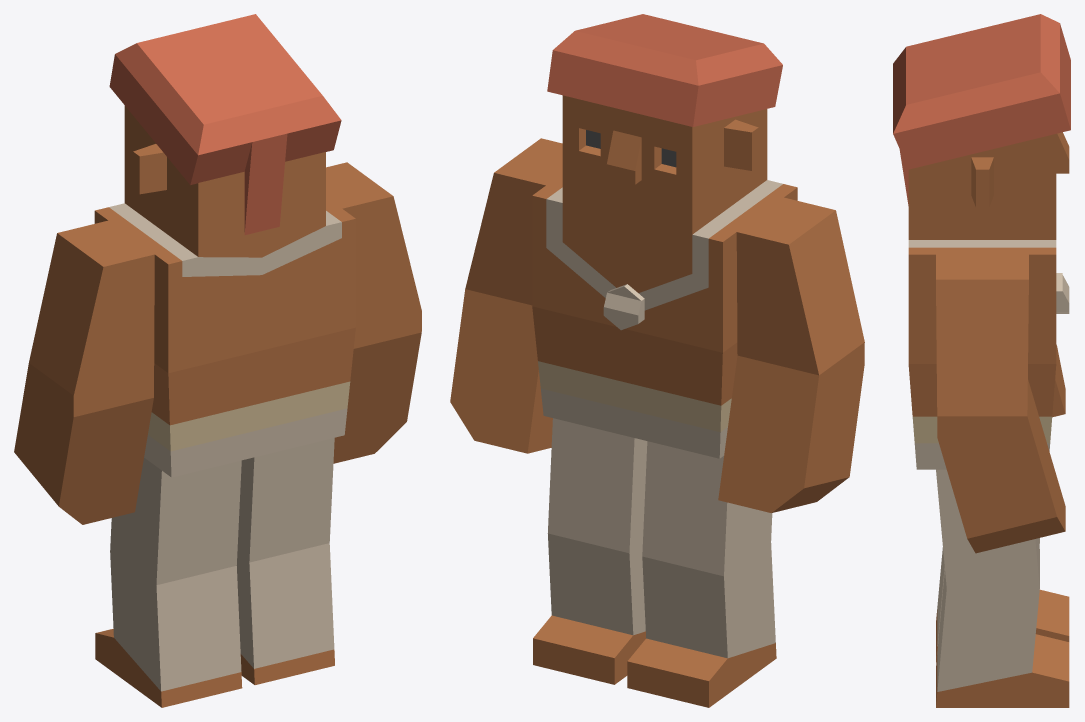
File: Pirate Crew.glb
3 views of the same model, side by side, from view 1: azimuth 30°, elevation 25°; view 2: azimuth 150°, elevation 25°; view 3: azimuth 270°, elevation 25° (orthographic).
Parts seen in each view (by area): view 1: body 1, armLeft 1, legLeft 1, Group 143.001, legRight 1, armRight 1, Group 143; view 2: body 1, armLeft 1, legLeft 1, legRight 1, armRight 1, Group 143, Group 143.001; view 3: armRight 1, Group 143.001, legRight 1, Group 143, body 1, legLeft 1, armLeft 1.
Part boxes in pixels (<box>): body 1: <box>94,197,355,477</box>; armLeft 1: <box>14,220,154,524</box>; legLeft 1: <box>95,457,242,707</box>; Group 143.001: <box>109,14,341,234</box>; legRight 1: <box>236,438,334,684</box>; armRight 1: <box>326,162,421,463</box>; Group 143: <box>124,105,325,256</box>; body 1: <box>532,173,797,458</box>; armLeft 1: <box>718,197,864,512</box>; legLeft 1: <box>627,441,776,707</box>; legRight 1: <box>533,418,647,684</box>; armRight 1: <box>450,138,562,453</box>; Group 143: <box>562,95,767,234</box>; Group 143.001: <box>547,14,782,126</box>; armRight 1: <box>936,254,1065,553</box>; Group 143.001: <box>893,14,1070,205</box>; legRight 1: <box>936,469,1069,707</box>; Group 143: <box>908,132,1069,239</box>; body 1: <box>908,240,1069,469</box>; legLeft 1: <box>936,538,1069,662</box>; armLeft 1: <box>1052,344,1065,417</box>.
Size of the model in its own units: 0.6239 by 1.06 by 0.275.
